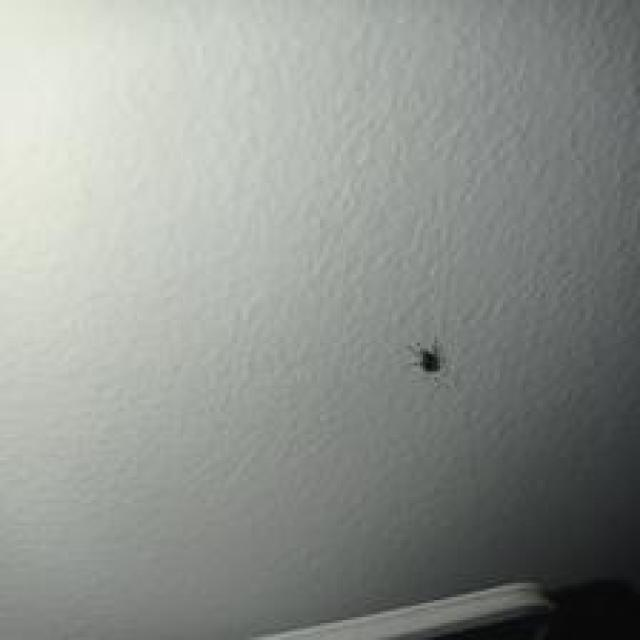Aedes albopictus: (406, 336, 443, 373)
